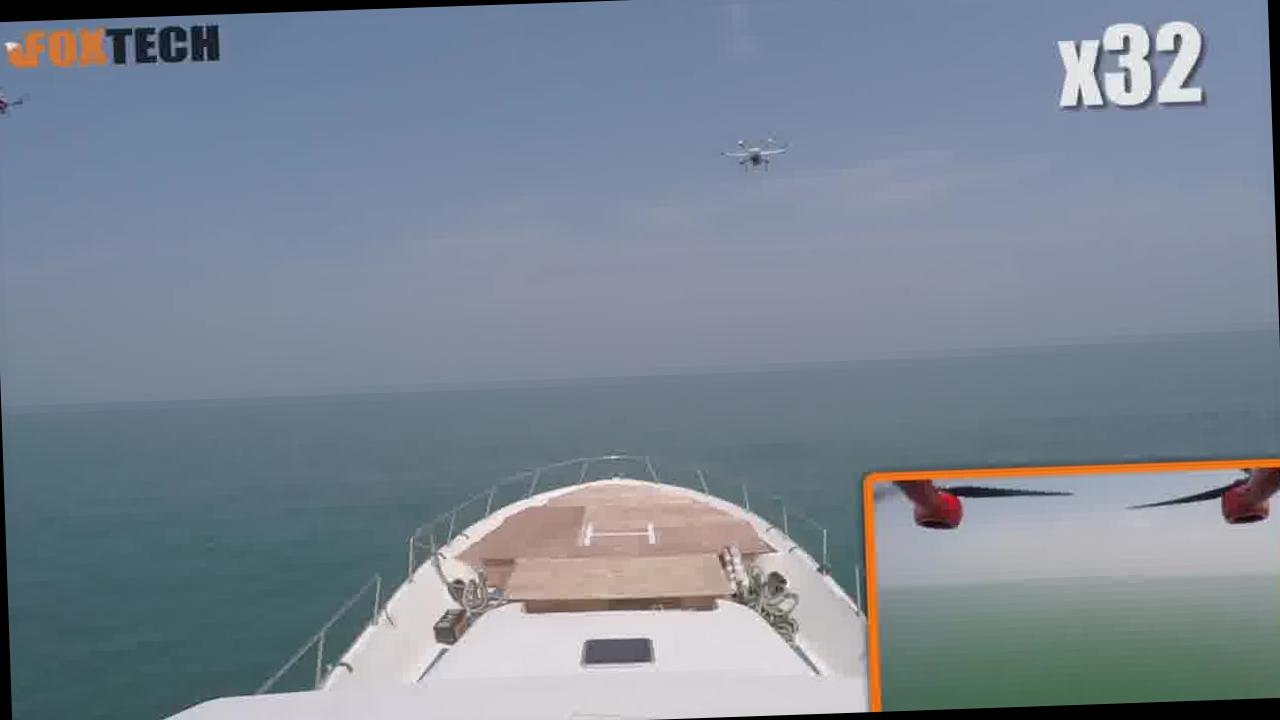drone: (709, 124, 799, 178)
